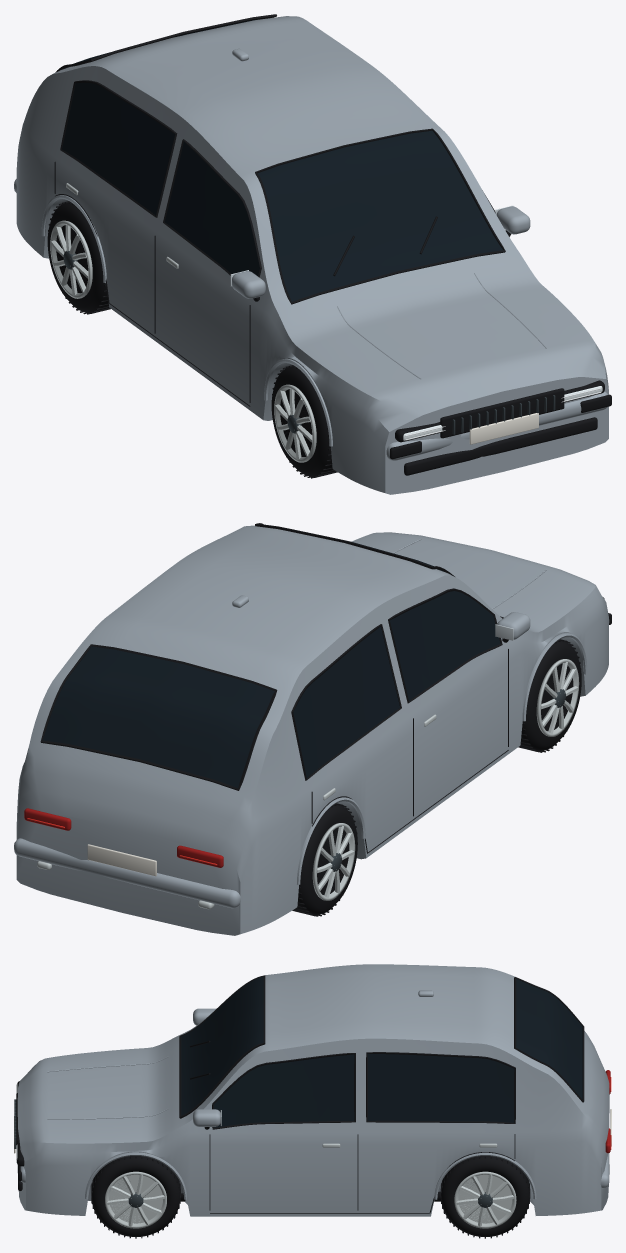
File: turismo_compacto_exterior.glb
3 views of the same model, one above another, from view 1: azimuth 30°, elevation 25°; view 2: azimuth 150°, elevation 25°; view 3: azimuth 270°, elevation 25° (orthographic). The views are drawn at different scales.
Parts seen in each view (by area): view 1: turismo_compacto_exterior; view 2: turismo_compacto_exterior; view 3: turismo_compacto_exterior.
Part boxes in pixels (x1=…): turismo_compacto_exterior: x1=14, y1=14, x2=611, y2=494; turismo_compacto_exterior: x1=14, y1=523, x2=611, y2=935; turismo_compacto_exterior: x1=14, y1=964, x2=611, y2=1238.
Bounding box in the file's own units: 1.74 × 1.48 × 4.04.
